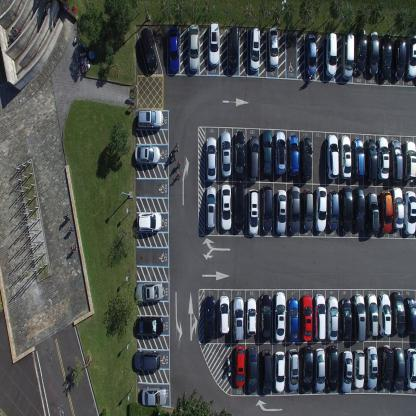car: (140, 26, 158, 73), (378, 346, 394, 390), (352, 292, 366, 342), (391, 290, 406, 335), (135, 281, 163, 304), (326, 133, 340, 179), (313, 292, 326, 341), (364, 138, 378, 183), (326, 344, 339, 392), (379, 33, 392, 81), (136, 316, 164, 338), (133, 350, 161, 372), (136, 108, 164, 130), (378, 293, 392, 337), (392, 37, 406, 81), (402, 139, 416, 183), (378, 190, 392, 234), (365, 191, 379, 235), (220, 184, 233, 231), (340, 185, 353, 232), (389, 139, 403, 182), (188, 23, 200, 73), (274, 291, 286, 341), (136, 211, 162, 234), (304, 32, 317, 78), (261, 184, 273, 233), (259, 292, 271, 341), (246, 344, 258, 393), (352, 138, 366, 180), (288, 184, 300, 233), (300, 135, 313, 180), (341, 33, 354, 78), (207, 20, 219, 68), (260, 129, 272, 177), (220, 130, 232, 178), (300, 293, 312, 341), (301, 345, 313, 393), (247, 135, 259, 182), (205, 135, 217, 182), (260, 348, 272, 395), (315, 186, 327, 233), (275, 188, 287, 235), (247, 189, 259, 235), (366, 344, 378, 390), (367, 30, 379, 76), (339, 134, 351, 180), (233, 130, 244, 180), (234, 182, 245, 232), (141, 386, 166, 408), (326, 296, 338, 341), (393, 345, 405, 390), (325, 31, 337, 76), (377, 135, 389, 180), (353, 186, 365, 231), (228, 25, 239, 74), (287, 133, 299, 177), (287, 348, 299, 392), (341, 350, 353, 394), (340, 298, 352, 342), (366, 293, 378, 337), (404, 190, 416, 234), (392, 186, 404, 230), (302, 188, 314, 232), (134, 145, 160, 165), (274, 130, 286, 173), (233, 296, 244, 342), (204, 296, 215, 342), (249, 26, 260, 72), (234, 346, 246, 388), (327, 190, 339, 232), (168, 26, 178, 76), (273, 351, 285, 392), (314, 347, 325, 391), (218, 295, 230, 335), (353, 348, 365, 388), (405, 346, 416, 389), (288, 296, 298, 343), (405, 34, 415, 80), (206, 186, 216, 230), (356, 29, 366, 73), (268, 27, 278, 70), (246, 297, 256, 336), (406, 297, 416, 334)
